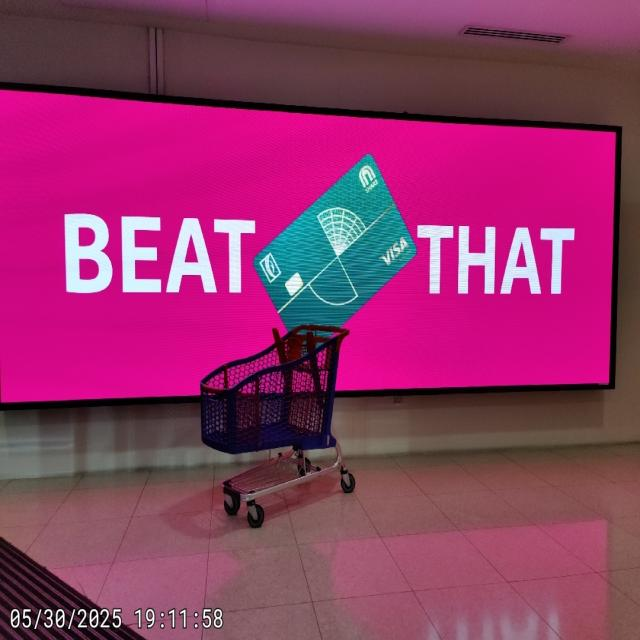digital-board-big: (1, 84, 622, 404)
